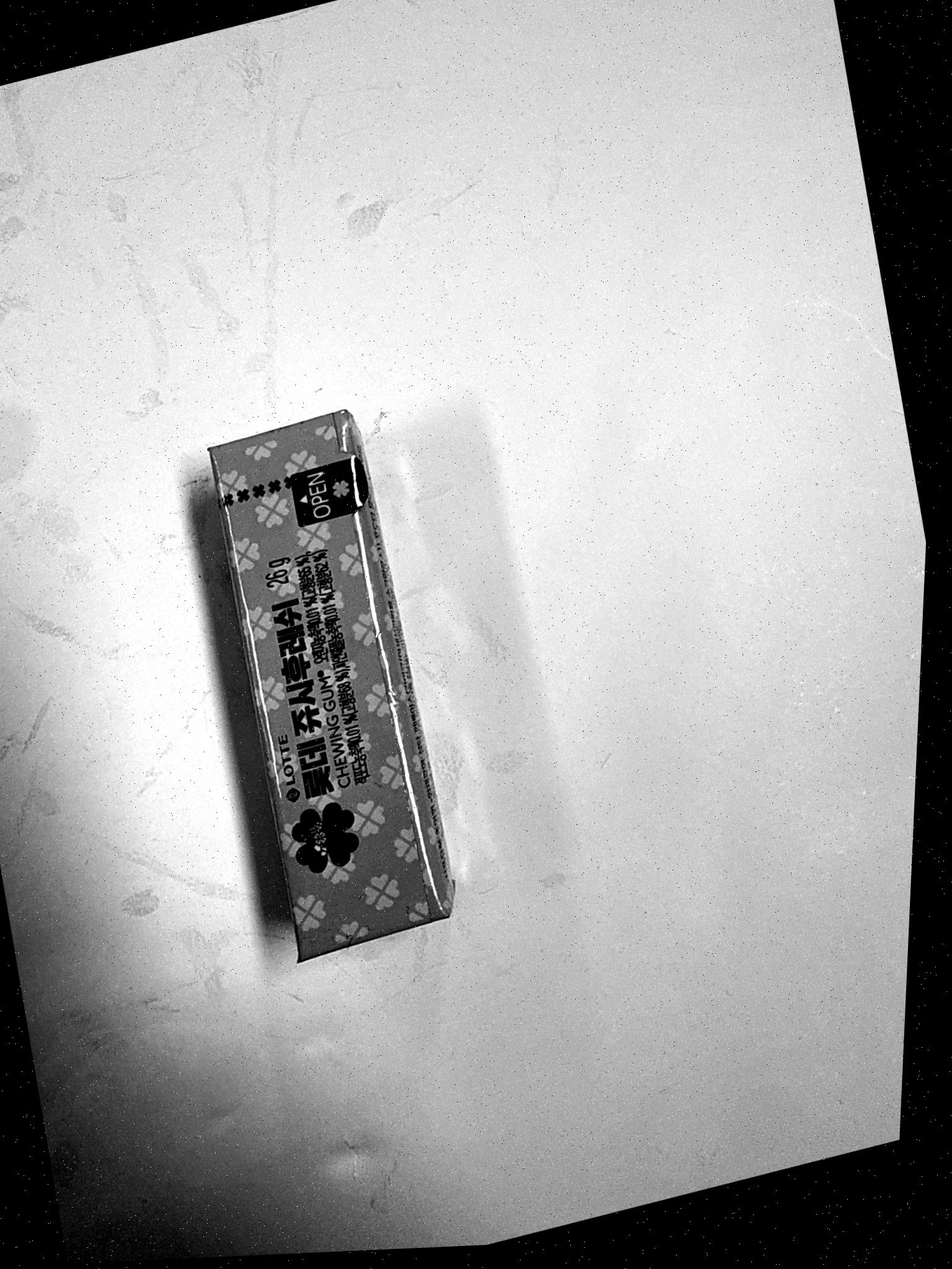gum_yellow: (212, 408, 451, 962)
